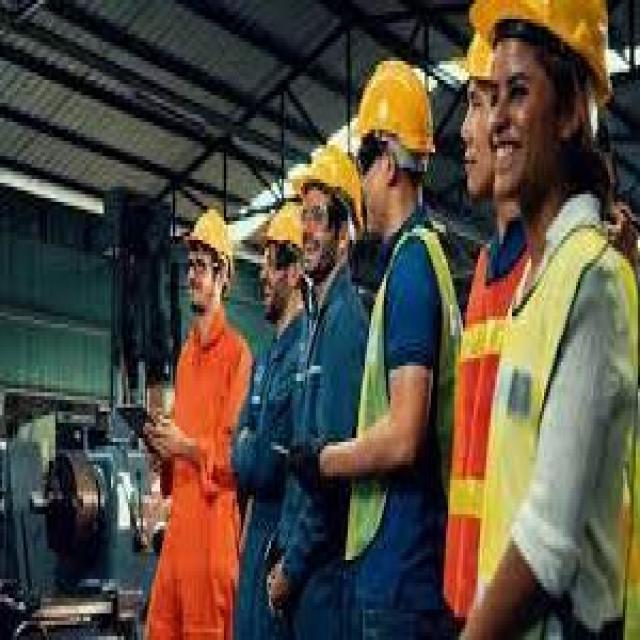reflective_jacket: (450, 213, 635, 628), (341, 213, 464, 582), (149, 320, 255, 628)
safety_helmet: (460, 0, 625, 99), (266, 129, 369, 236), (349, 53, 441, 171), (254, 186, 318, 278), (179, 194, 243, 281)
